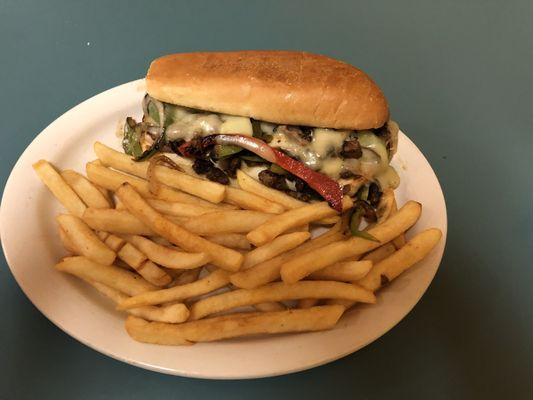soup: (122, 50, 402, 235)
